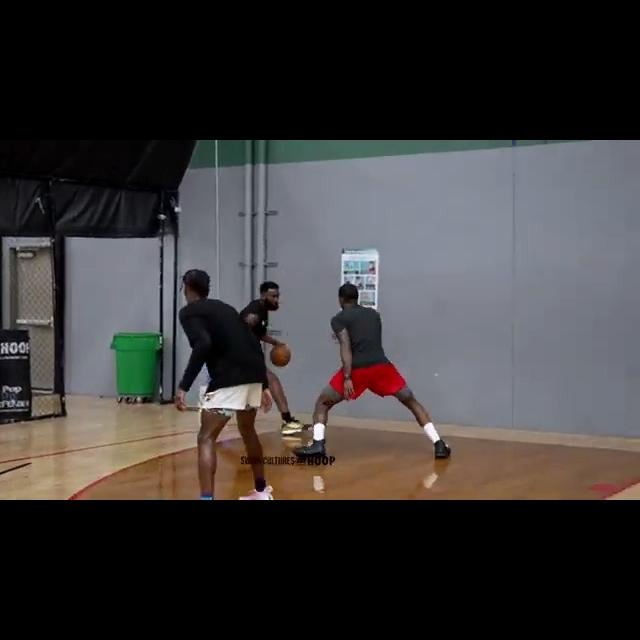basketball: (269, 345, 293, 366)
